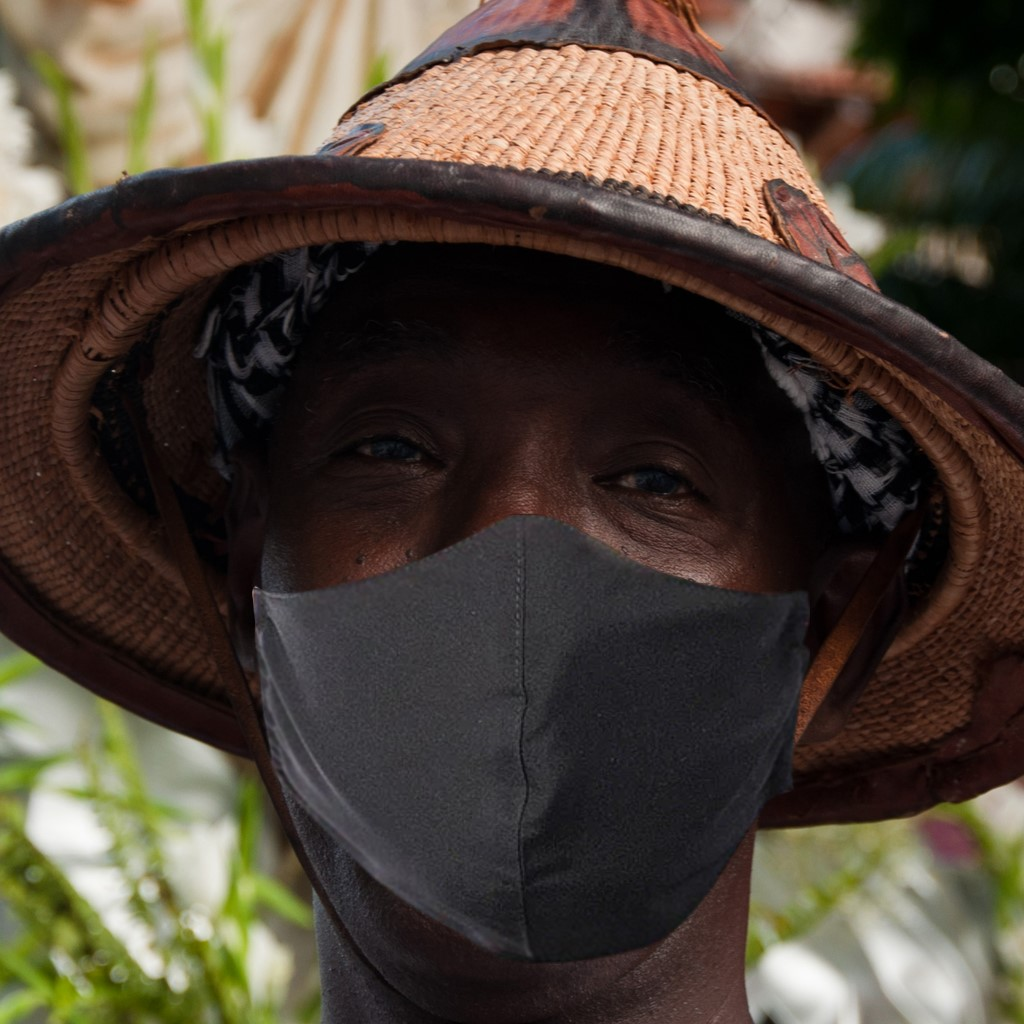con_mascara: (257, 259, 802, 957)
